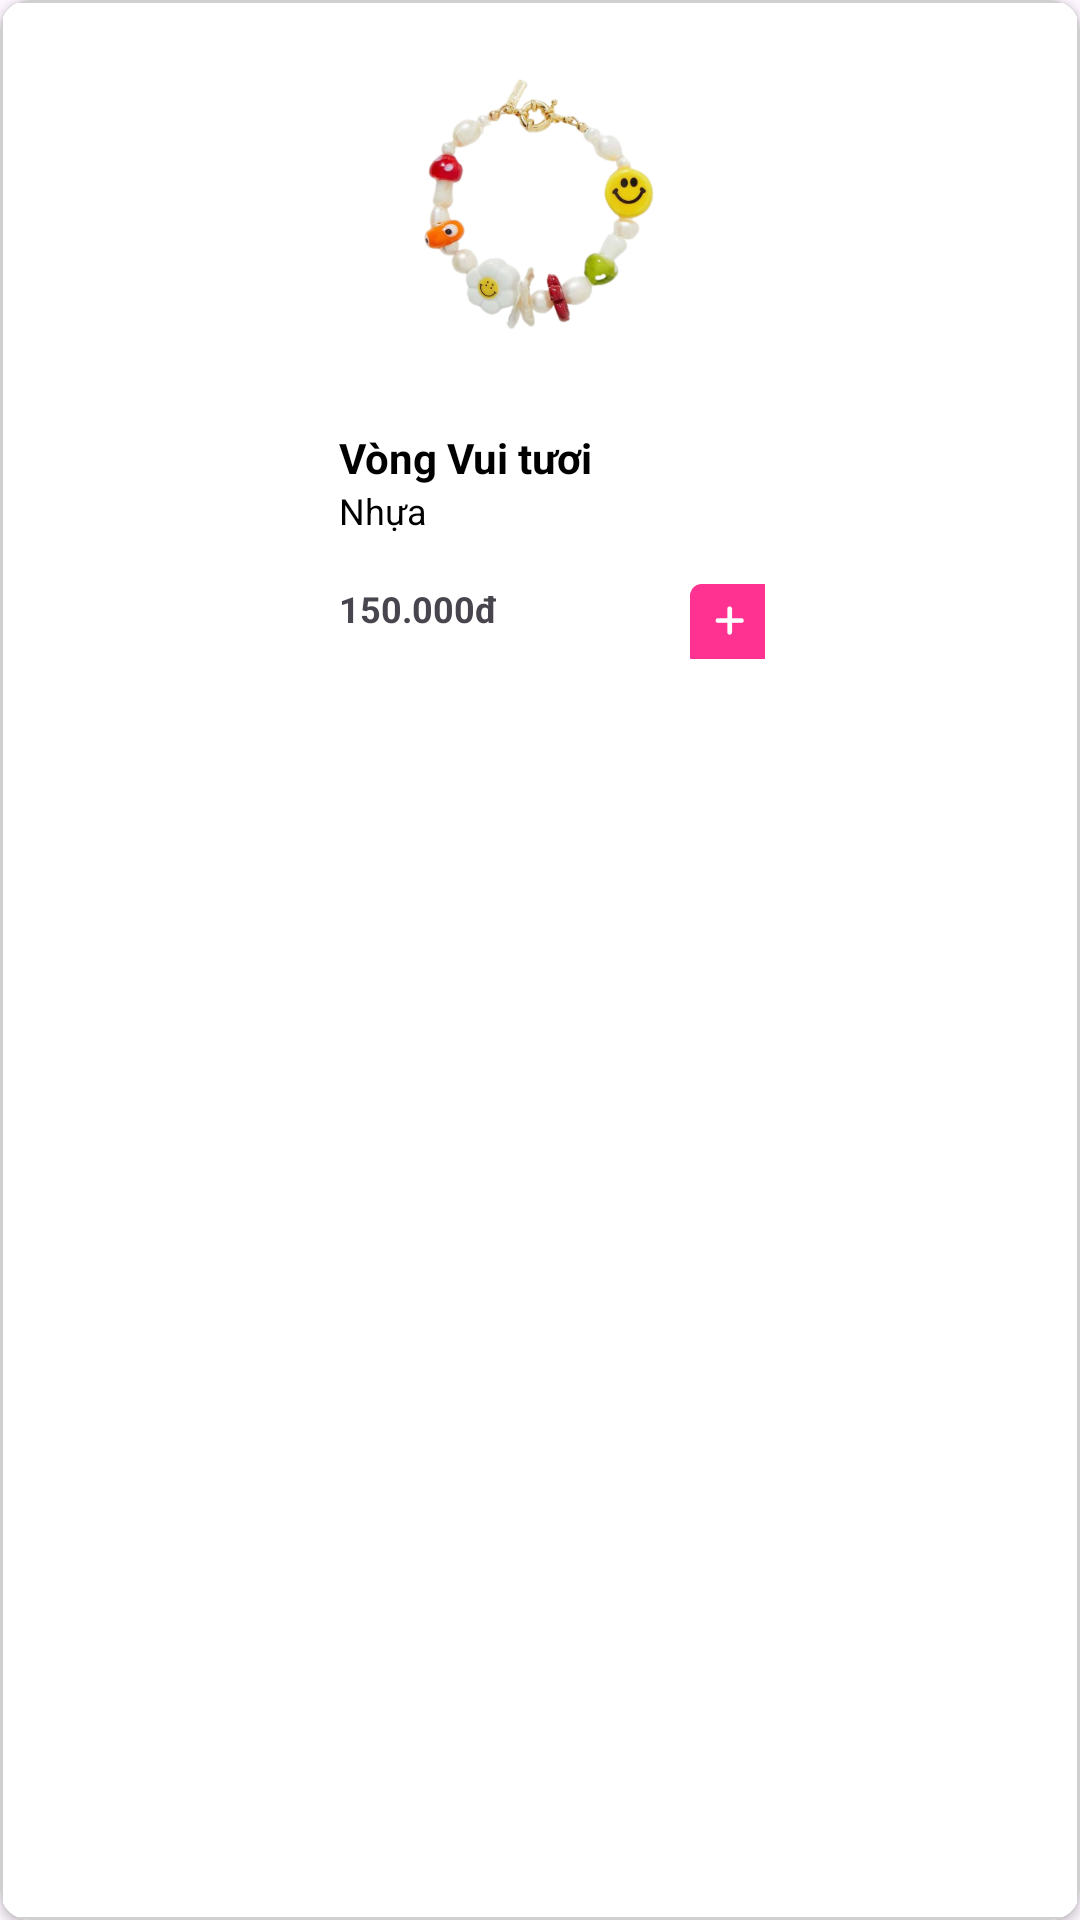

Point at icon controls on the screen. Image size 1080 × 1920, points as [x,y].
add to card: [727,621]
item br: [538,204]
